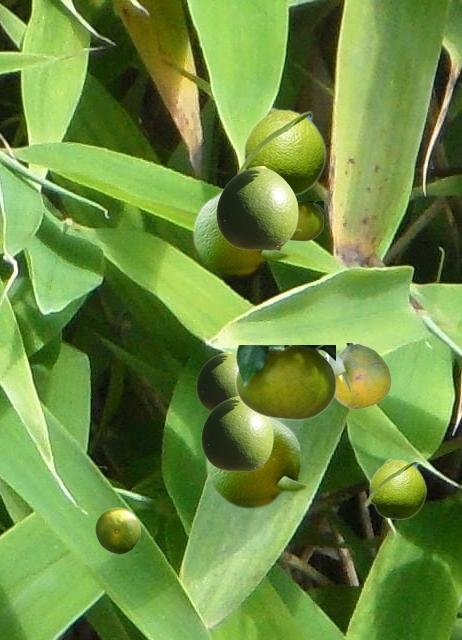dalandan: (204, 419, 308, 508), (191, 189, 290, 276), (236, 107, 326, 196), (235, 345, 334, 419), (216, 166, 297, 249), (201, 396, 272, 470), (325, 343, 390, 408), (364, 458, 426, 519), (196, 352, 236, 411), (95, 507, 139, 553), (290, 201, 322, 240), (292, 204, 302, 237)
